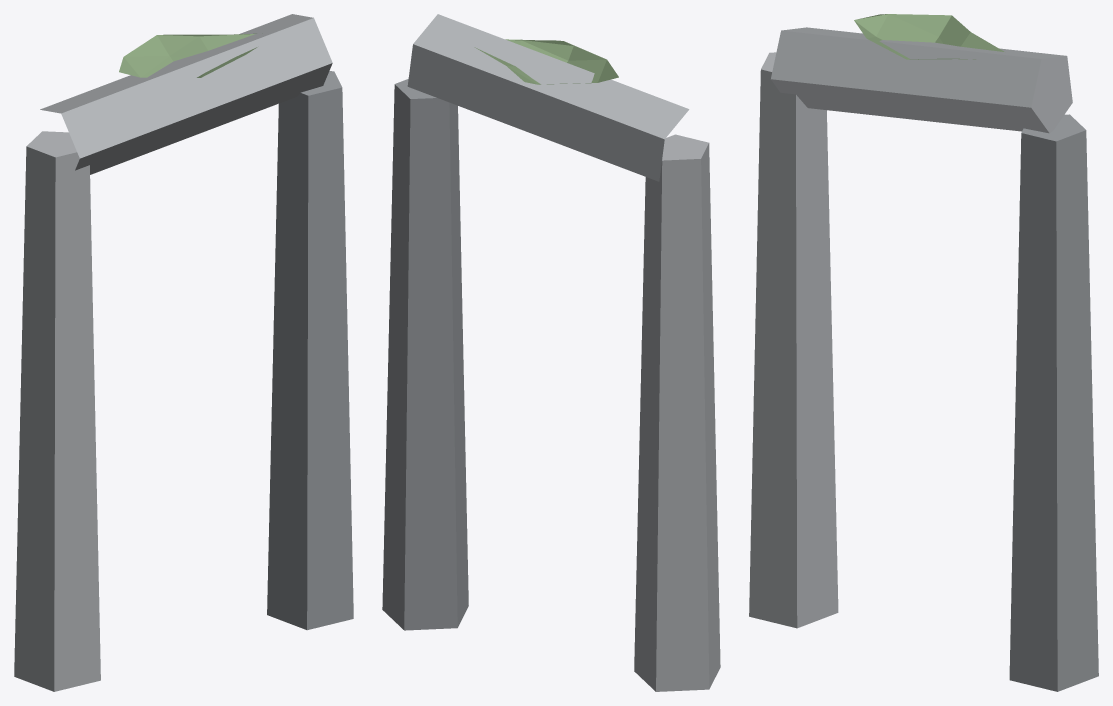
Rendered from arch_rock_v27.glb.
The picture shows the model from 3 angles, left to right: view 1: azimuth 30°, elevation 25°; view 2: azimuth 150°, elevation 25°; view 3: azimuth 330°, elevation 25°; orthographic projection. The views are drawn at different scales.
Visible parts, largest first — view 1: lod0; view 2: lod0; view 3: lod0.
Boxes of the visible parts, left/top/right/bottom form: lod0: left=14, top=14, right=353, bottom=691; lod0: left=382, top=14, right=720, bottom=691; lod0: left=749, top=14, right=1098, bottom=691.
Size of what is drawn, in the model's own units: 1.82 by 3.21 by 0.4744.
